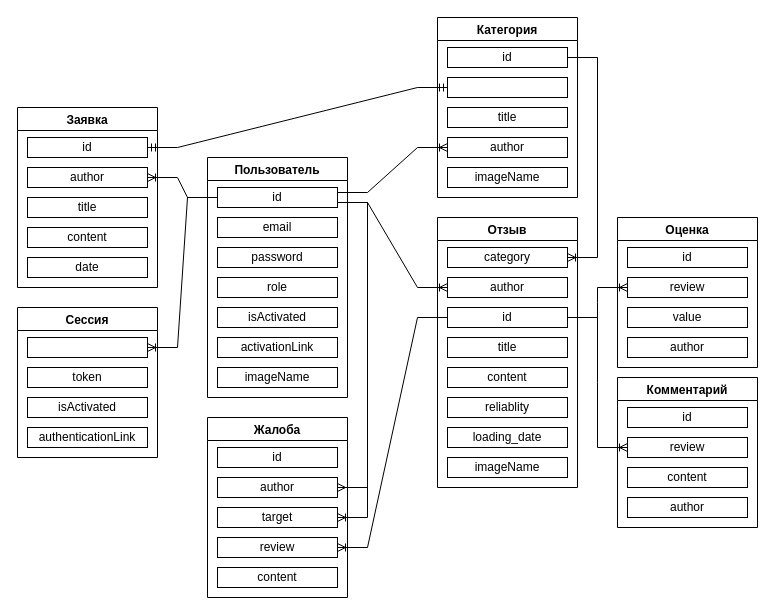
This 775x615 diagram has some shape labels left out. Here are the shapes that lost their labels. From the top down, the centre of each, then its label:
[507,87]: request
[87,347]: user
